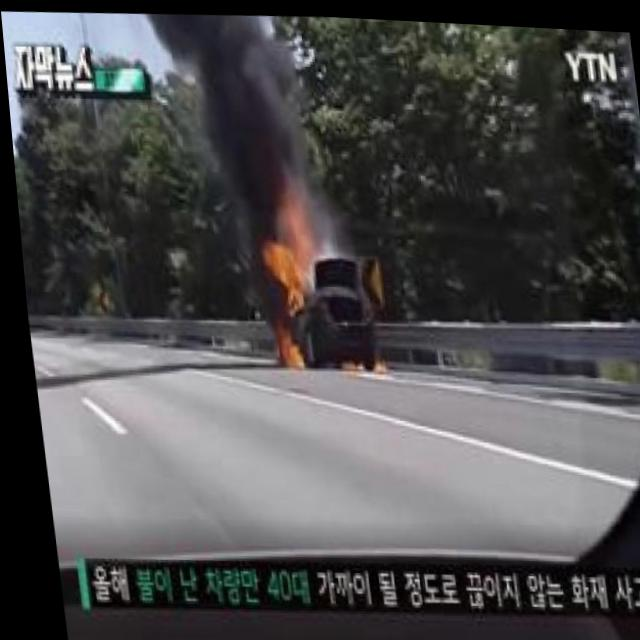Fire: (261, 221, 315, 301), (270, 330, 296, 366)
